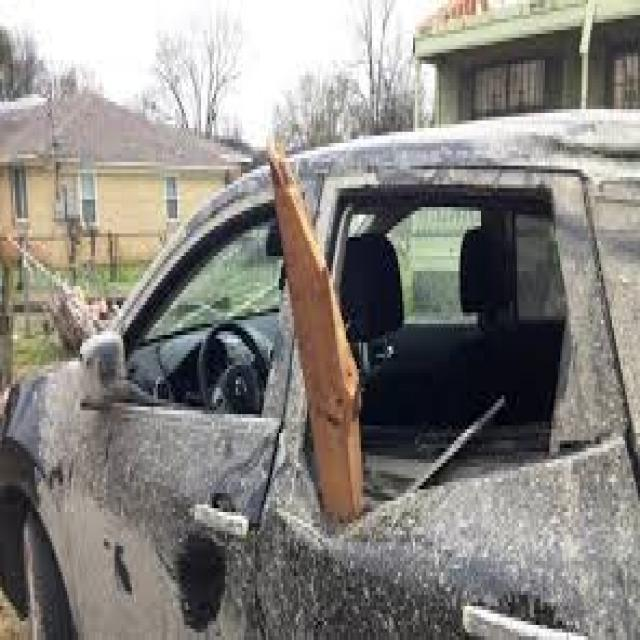moderate: (32, 128, 630, 640)
